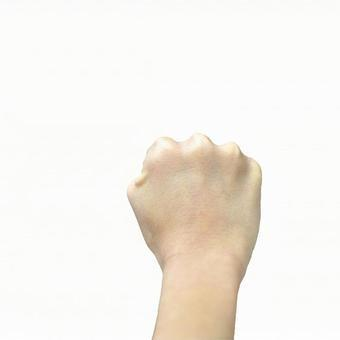gu-: (125, 134, 263, 273)
